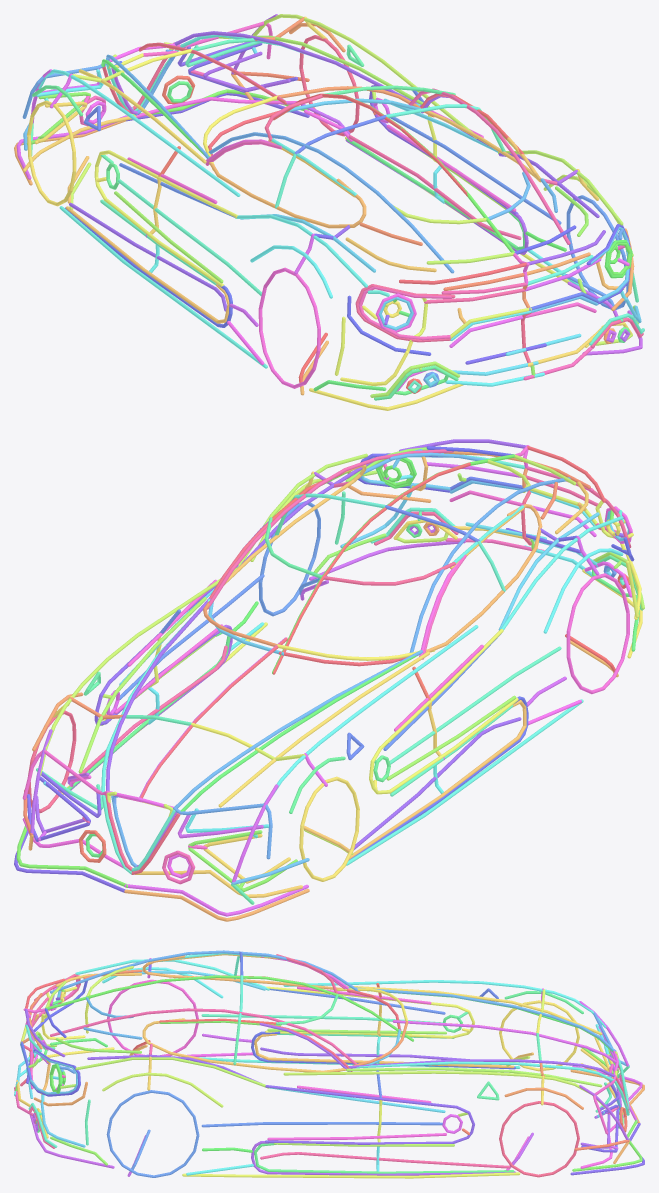
File: robbins_car1.gltf
3 renders of one model, top to bottom at view 1: azimuth 30°, elevation 25°; view 2: azimuth 150°, elevation 25°; view 3: azimuth 270°, elevation 25°, orthographic. The views are drawn at different scales.
Bounding box in the file's own units: 0.4018 × 0.2356 × 0.8906.
